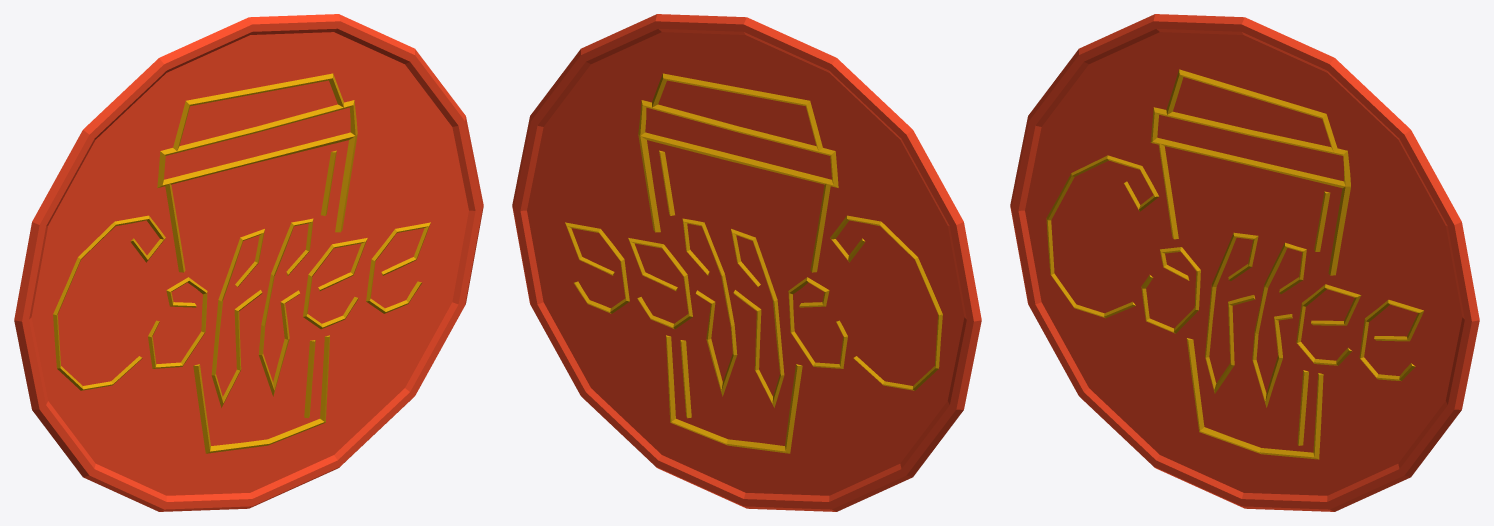
Rendered from SM_Neon_Coffee_City.fbx.
3 renders of one model, left to right at view 1: azimuth 30°, elevation 25°; view 2: azimuth 150°, elevation 25°; view 3: azimuth 330°, elevation 25°, orthographic.
Visible parts, largest first — view 1: SM_Neon_Coffee_City; view 2: SM_Neon_Coffee_City; view 3: SM_Neon_Coffee_City.
Boxes of the visible parts, x1,y1,x2,y2 form: SM_Neon_Coffee_City: [14, 14, 483, 511]; SM_Neon_Coffee_City: [512, 14, 981, 511]; SM_Neon_Coffee_City: [1010, 14, 1479, 511].
Bounding box in the file's own units: 1.64 × 1.64 × 0.0401.
